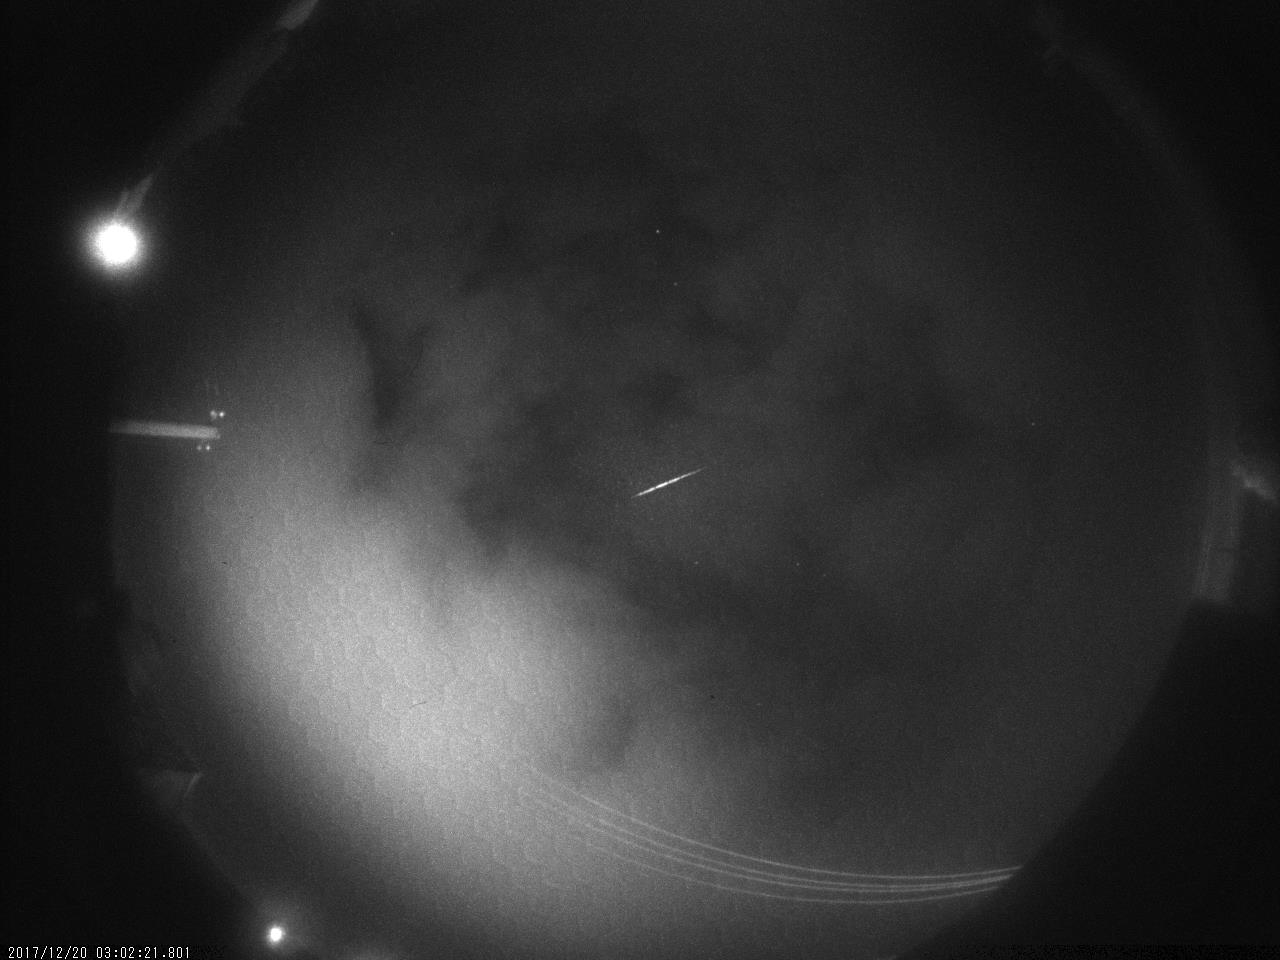meteor: (597, 433, 744, 515)
